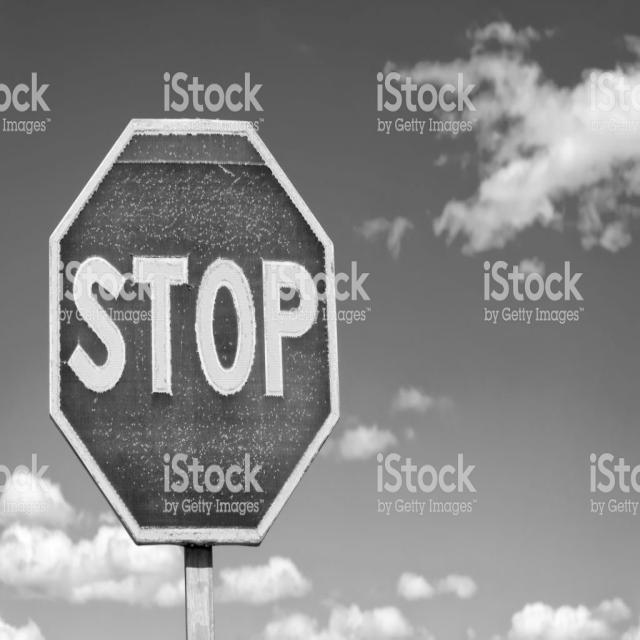Stop-sign: (36, 111, 354, 564)
